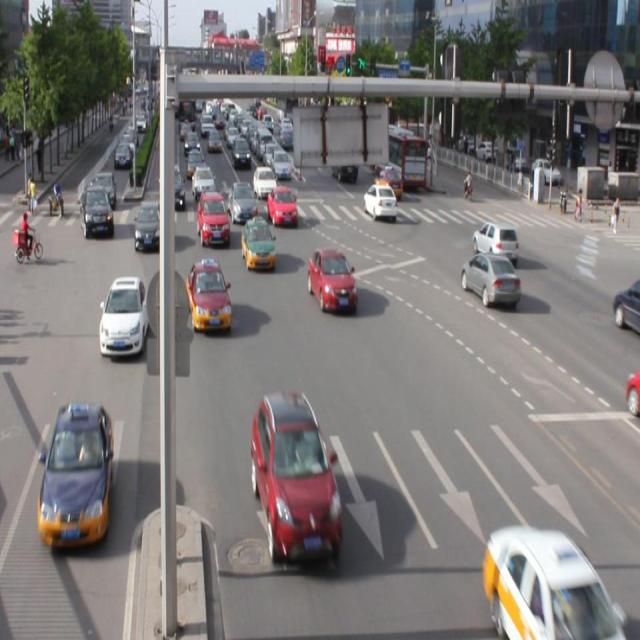car: (485, 525, 625, 640), (251, 392, 342, 559), (39, 400, 114, 540), (99, 274, 149, 356), (186, 259, 232, 331), (459, 251, 519, 306), (308, 247, 357, 312), (472, 220, 518, 264), (242, 214, 276, 271), (197, 191, 230, 248), (134, 200, 164, 250)
